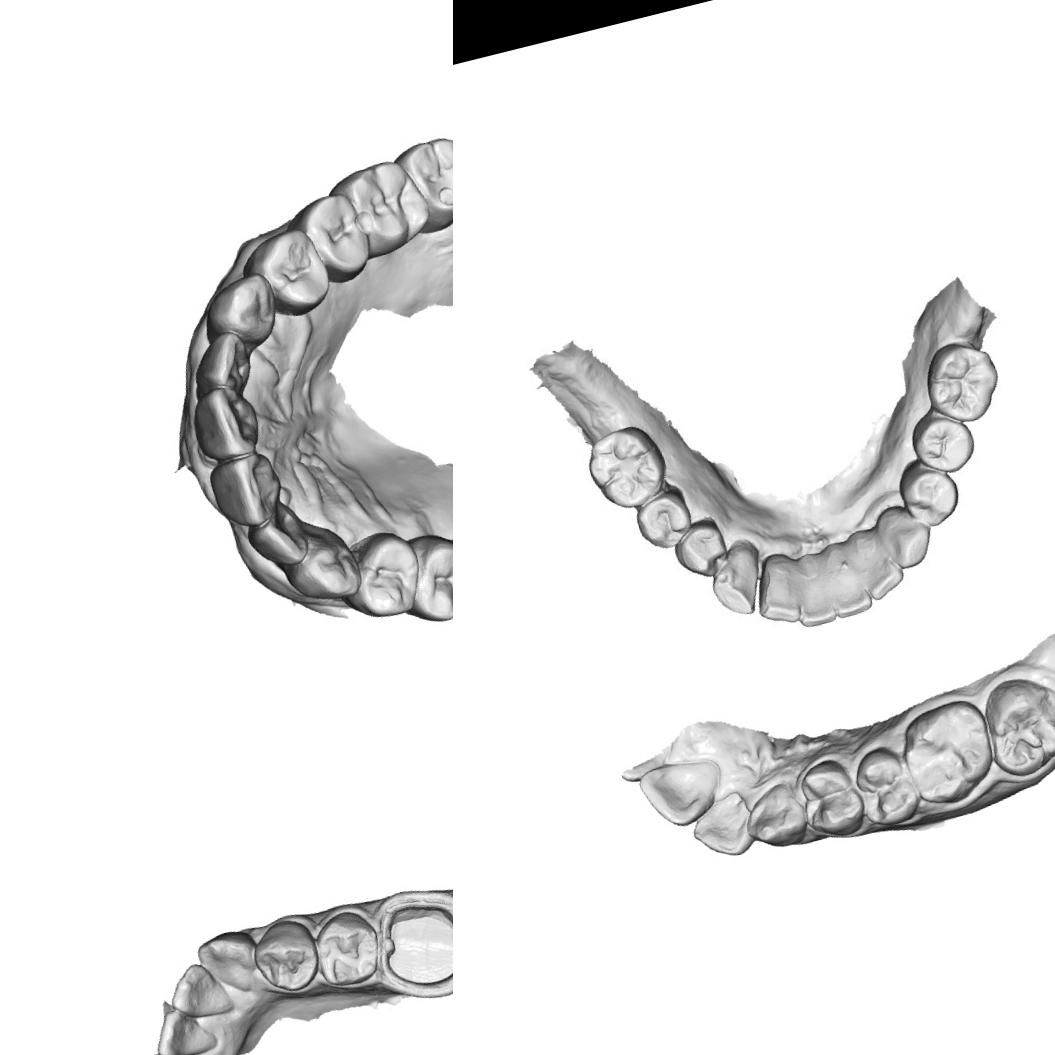canine: (194, 268, 286, 356), (277, 522, 365, 612), (734, 775, 818, 857), (191, 923, 267, 1005), (701, 536, 769, 622), (873, 499, 936, 574)
crown: (372, 890, 453, 996)
incisor: (634, 750, 731, 834), (202, 446, 288, 535), (183, 379, 264, 466), (685, 793, 760, 866), (242, 500, 314, 575), (160, 954, 235, 1026), (183, 327, 255, 400), (850, 524, 910, 604), (746, 552, 805, 632), (818, 543, 877, 618), (147, 997, 222, 1055), (786, 558, 834, 628)
molar: (890, 692, 1002, 811), (324, 151, 436, 267), (971, 665, 1055, 783), (916, 330, 1010, 431), (580, 419, 674, 516), (389, 128, 453, 239)
premolar: (236, 222, 336, 327), (335, 522, 430, 626), (284, 187, 374, 293), (306, 904, 388, 994), (246, 912, 326, 1000), (848, 739, 923, 832), (792, 753, 869, 843), (394, 525, 453, 632), (905, 406, 980, 482), (895, 458, 964, 532), (628, 486, 697, 554), (665, 518, 730, 584)
